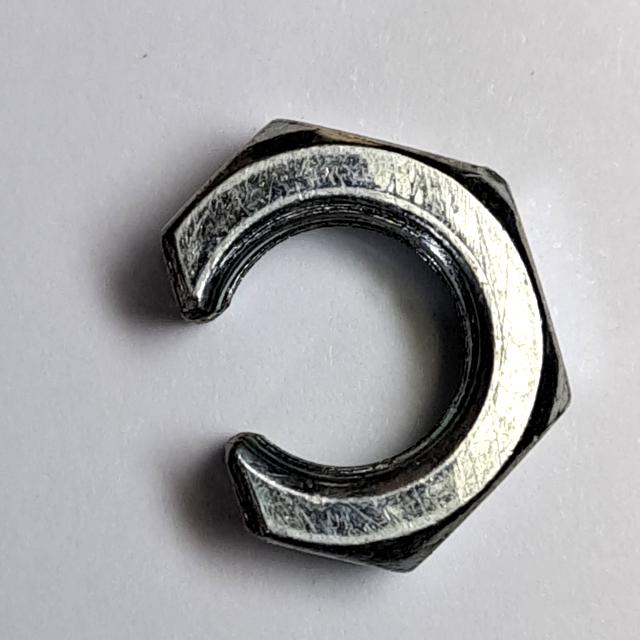Fracture: (153, 102, 583, 583)
